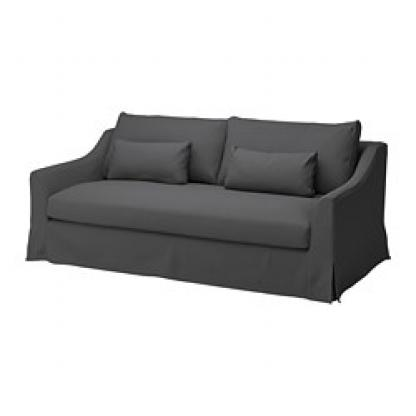Sofa: (20, 105, 393, 316)
